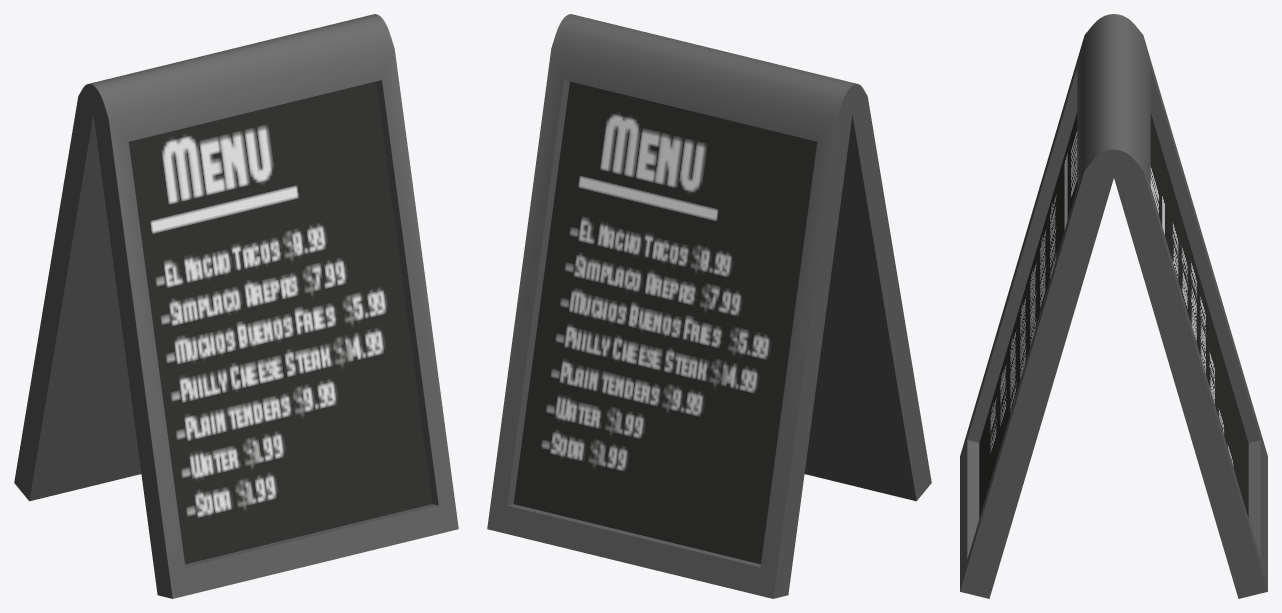
Rendered from Sign B.fbx.
3 renders of one model, left to right at view 1: azimuth 30°, elevation 25°; view 2: azimuth 150°, elevation 25°; view 3: azimuth 270°, elevation 25°, orthographic. The views are drawn at different scales.
Visible parts, largest first — view 1: Sign B; view 2: Sign B; view 3: Sign B.
Boxes of the visible parts, x1,y1,x2,y2 form: Sign B: (14,14,458,598); Sign B: (487,14,931,598); Sign B: (960,14,1267,598).
Bounding box in the file's own units: 48 × 74.23 × 46.08.
